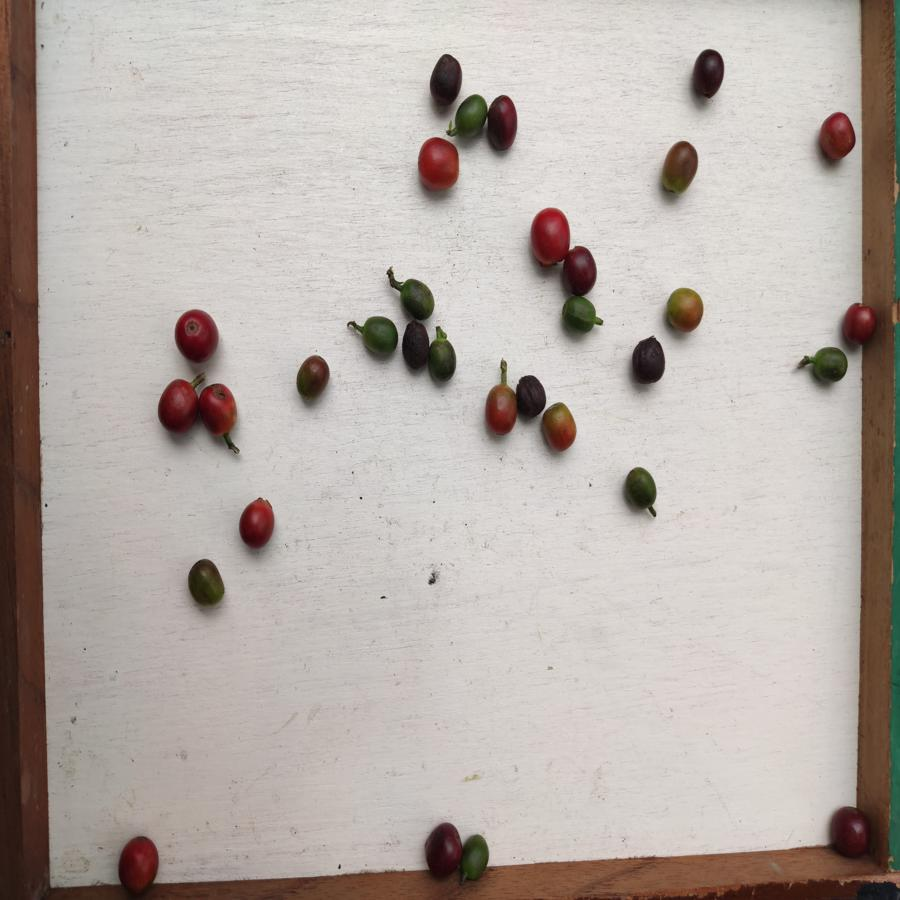Inmaduro: (355, 313, 400, 362), (395, 278, 441, 322), (624, 463, 660, 519), (804, 347, 848, 387), (461, 830, 493, 884), (431, 335, 461, 386), (561, 296, 603, 330), (454, 95, 487, 138)
Maduro: (413, 136, 461, 197), (156, 380, 201, 439), (173, 311, 223, 363), (116, 836, 160, 895), (197, 383, 241, 441), (529, 204, 569, 265), (235, 500, 280, 552), (813, 112, 859, 162), (481, 386, 517, 437), (842, 302, 875, 352)
Pinton: (658, 140, 699, 195), (185, 558, 227, 607), (665, 289, 707, 333), (543, 404, 578, 451), (297, 355, 333, 400)
Sobremaduro: (832, 802, 874, 862), (423, 48, 464, 107), (423, 824, 462, 878), (630, 334, 667, 389), (558, 248, 601, 294), (690, 47, 726, 100), (488, 94, 518, 153), (400, 321, 432, 368), (516, 375, 547, 421)
